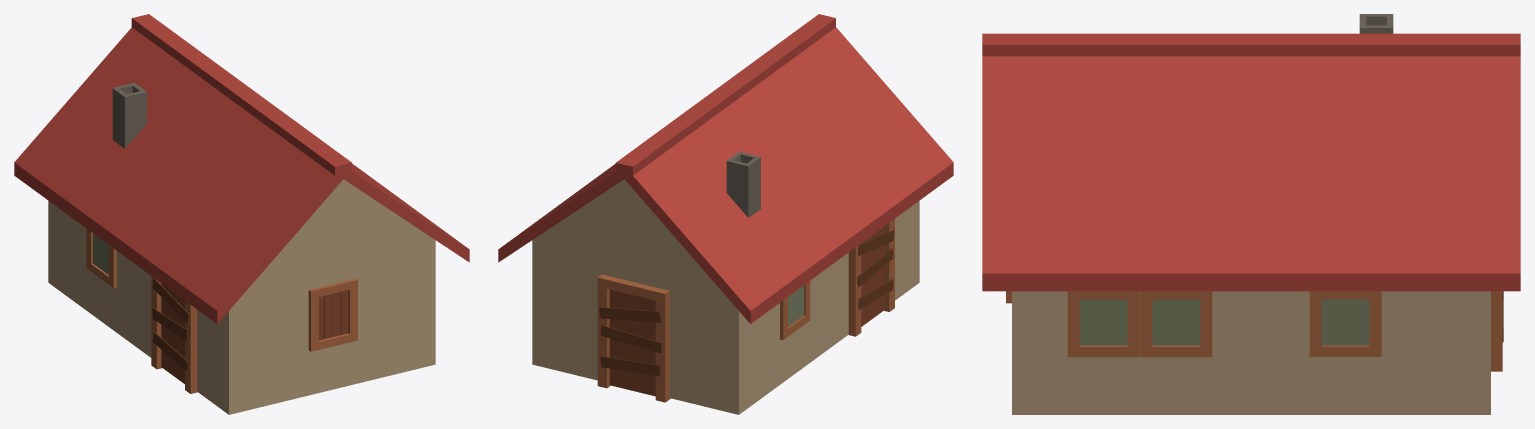
Rendered from Wohnhaus_Einzelobjekt.fbx.
3 renders of one model, left to right at view 1: azimuth 30°, elevation 25°; view 2: azimuth 150°, elevation 25°; view 3: azimuth 270°, elevation 25°, orthographic. The views are drawn at different scales.
Parts seen in each view (by area): view 1: Cube.010; view 2: Cube.010; view 3: Cube.010.
Part boxes in pixels (x1,y1,x2,y2): Cube.010: (14,14,469,414); Cube.010: (498,14,953,414); Cube.010: (982,14,1520,414).
Bounding box in the file's own units: 505 × 449 × 704.
